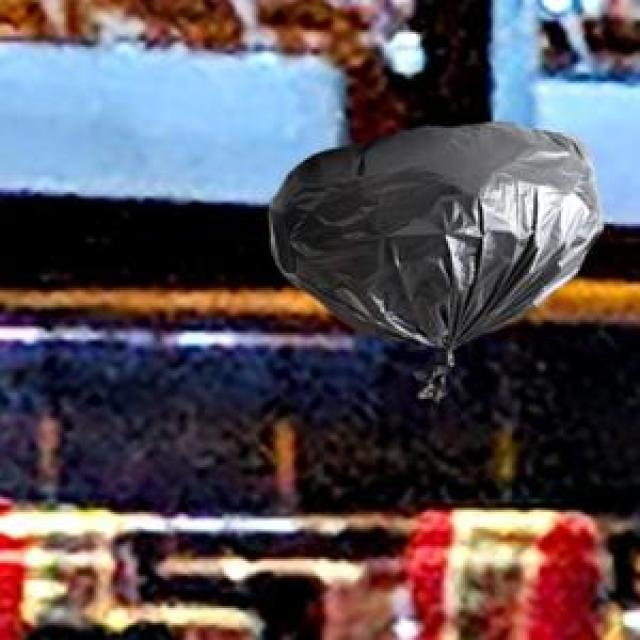Bolsa-de-plastico: (270, 124, 601, 399)
